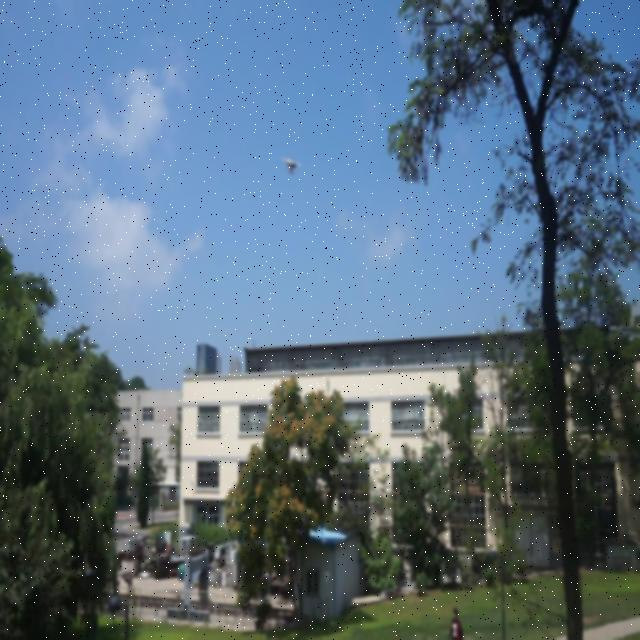UAV: (280, 157, 302, 175)
